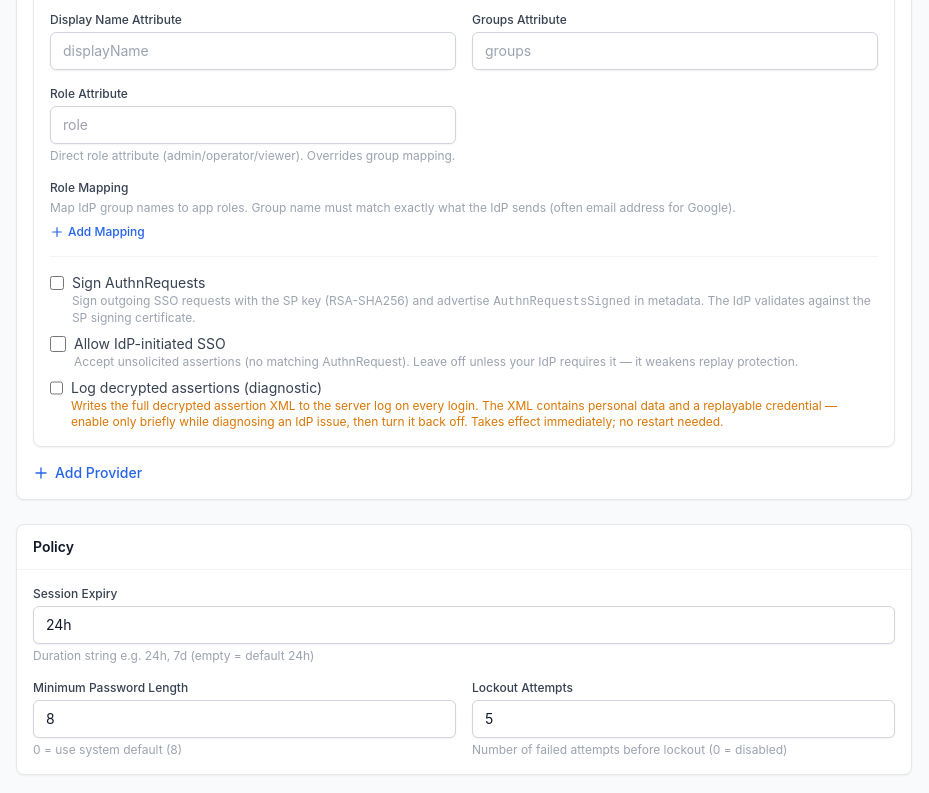
Test: AdminAuthPage › toggling Log decrypted assertions enables Save
(page scrolled)
Click the checkbox labelled "Log decrypted assertions" at [56, 388], box [50, 380, 63, 396]
(page scrolled)
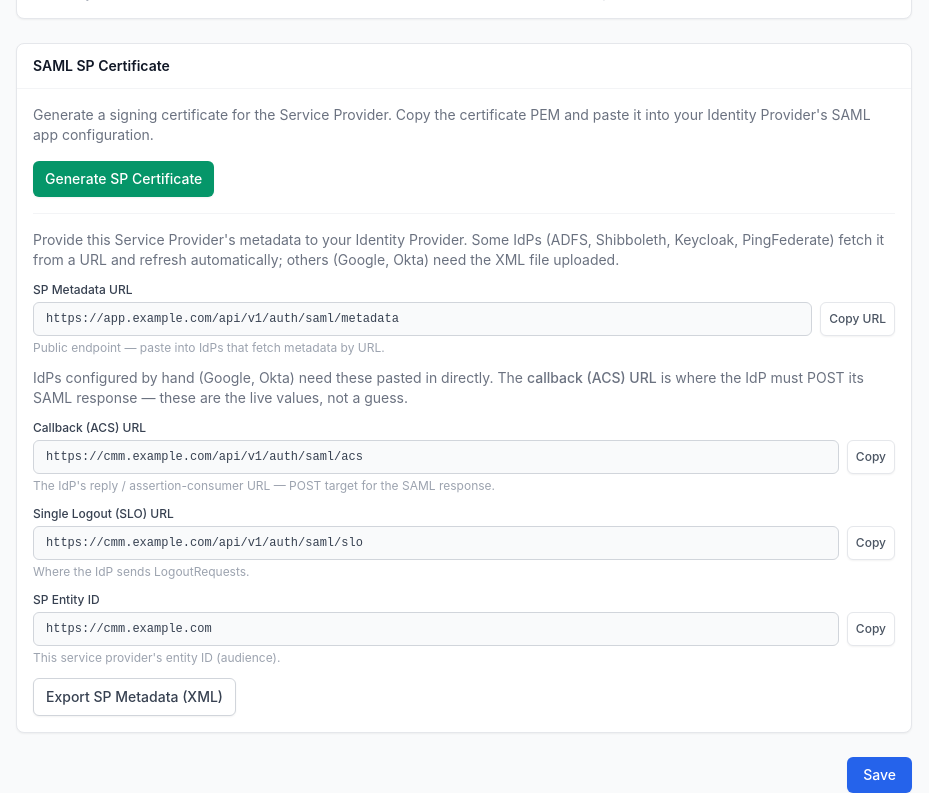
Check: the button "Save" is enabled, box [847, 757, 912, 792]
